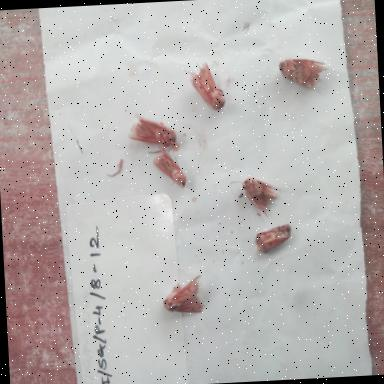abw: (180, 51, 230, 116), (225, 172, 286, 224), (274, 48, 336, 98), (124, 108, 182, 157), (158, 270, 210, 320), (247, 220, 296, 259), (148, 149, 189, 195)
